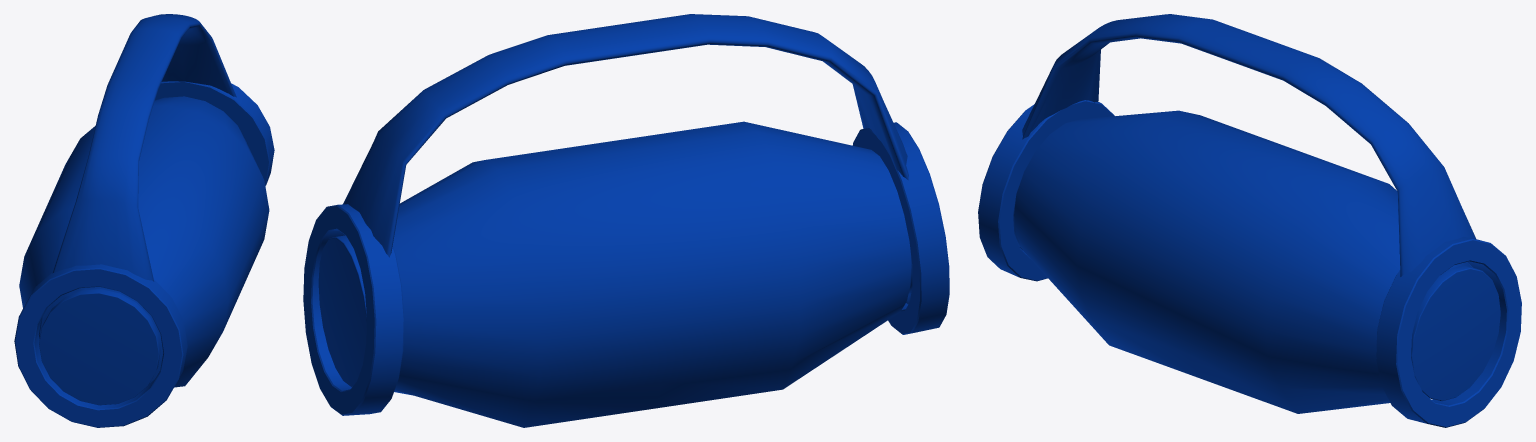
The model's file is Speaker.fbx.
The picture shows the model from 3 angles, left to right: view 1: azimuth 30°, elevation 25°; view 2: azimuth 150°, elevation 25°; view 3: azimuth 270°, elevation 25°; orthographic projection. The views are drawn at different scales.
Visible parts, largest first — view 1: Speaker_3, Speaker_1, Speaker_2, Speaker_4; view 2: Speaker_3, Speaker_1, Speaker_4, Speaker_2; view 3: Speaker_3, Speaker_1, Speaker_4, Speaker_2.
Boxes of the visible parts, left/top/right/bottom form: Speaker_3: left=19, top=96, right=269, bottom=405; Speaker_1: left=52, top=14, right=236, bottom=281; Speaker_2: left=14, top=264, right=187, bottom=427; Speaker_4: left=155, top=81, right=274, bottom=185; Speaker_3: left=318, top=121, right=912, bottom=427; Speaker_1: left=343, top=14, right=908, bottom=257; Speaker_4: left=303, top=204, right=404, bottom=415; Speaker_2: left=852, top=122, right=949, bottom=334; Speaker_3: left=1013, top=110, right=1500, bottom=413; Speaker_1: left=1022, top=14, right=1475, bottom=276; Speaker_4: left=1376, top=236, right=1521, bottom=427; Speaker_2: left=978, top=100, right=1114, bottom=281.
Bounding box in the file's own units: 30.11 × 20.67 × 32.39.
